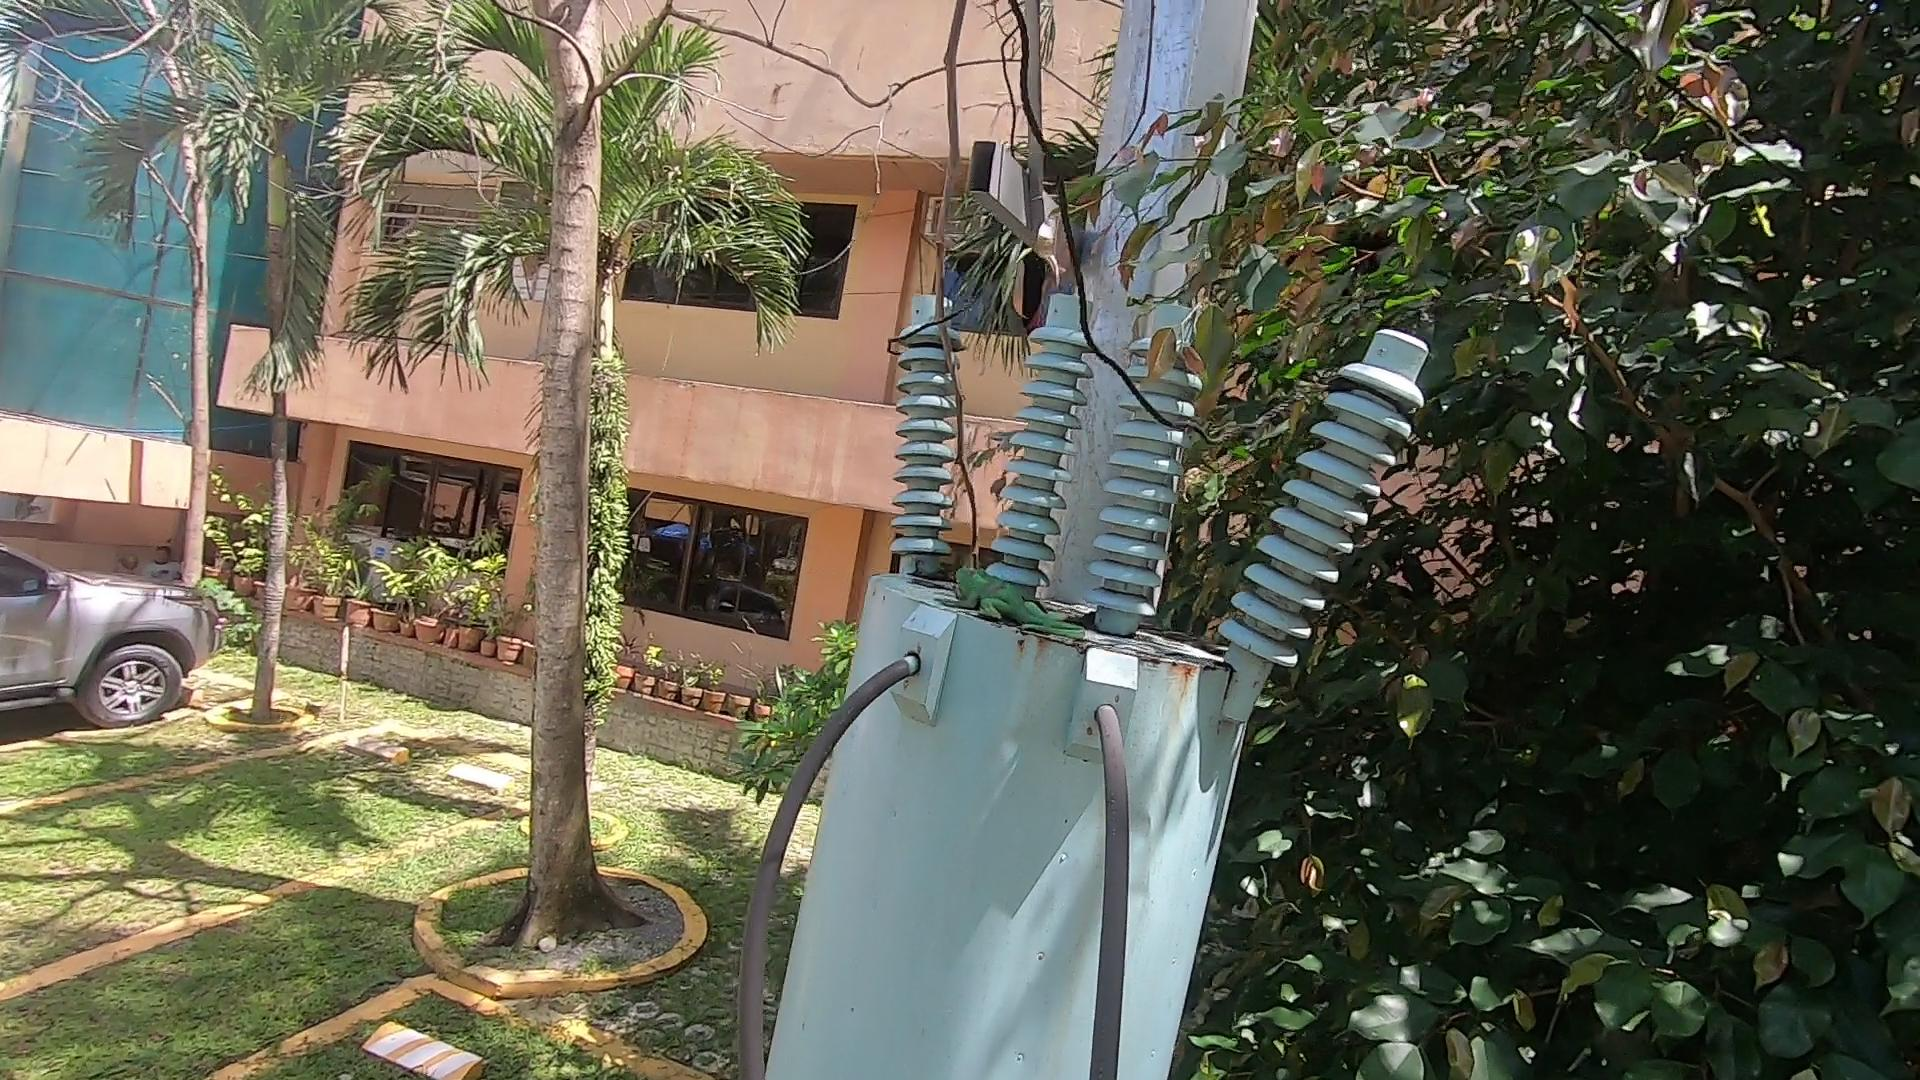branch with leaves: (1124, 243, 1286, 430)
leaf: (1131, 607, 1233, 665), (906, 568, 960, 600), (1060, 603, 1104, 640)
tree branch: (870, 7, 1058, 582)
